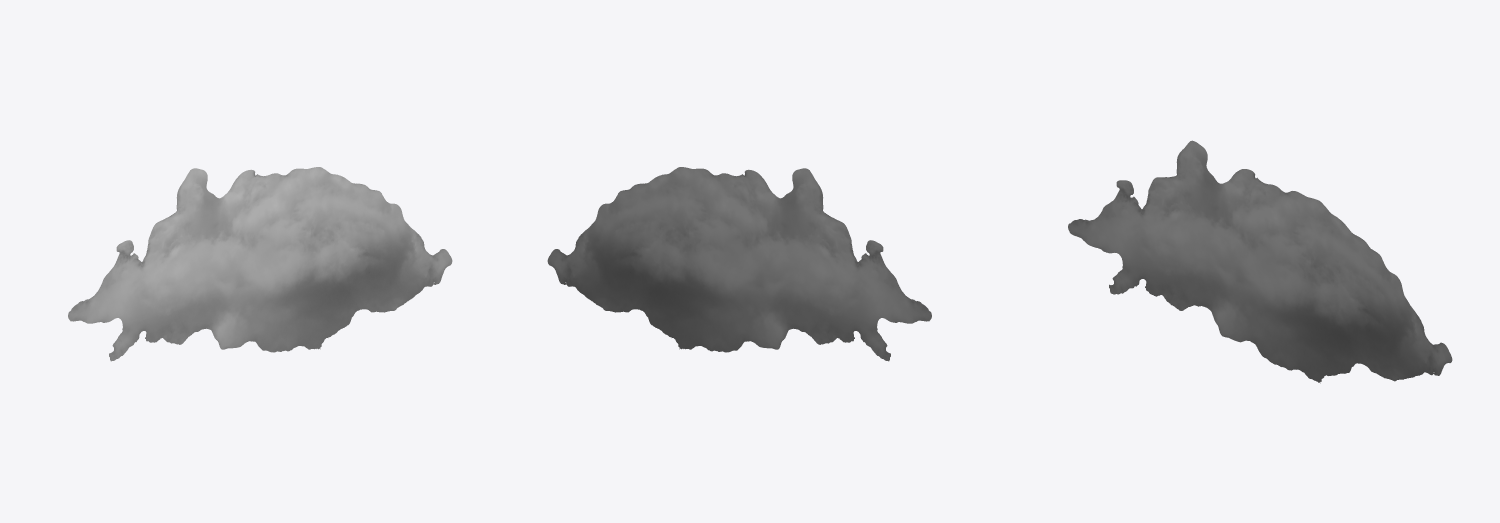
Rendered from Cloud_01.fbx.
3 views of the same model, side by side, from view 1: azimuth 30°, elevation 25°; view 2: azimuth 150°, elevation 25°; view 3: azimuth 330°, elevation 25° (orthographic).
Visible parts, largest first — view 1: pPlane1; view 2: pPlane1; view 3: pPlane1.
Boxes of the visible parts, bbox=[...] form: pPlane1: bbox=[68, 167, 452, 361]; pPlane1: bbox=[547, 167, 931, 361]; pPlane1: bbox=[1068, 140, 1452, 383].
Size of the model in its own units: 18.26 by 14.08 by 8.62e-16.
Materials: 1 (1 with a texture image).
